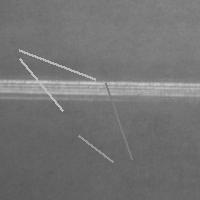scratches: (1, 78, 199, 100), (92, 3, 160, 54), (14, 45, 100, 84), (15, 54, 68, 116), (101, 78, 137, 164), (75, 20, 158, 46), (73, 130, 117, 166)
